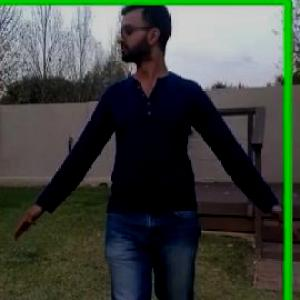land: (21, 3, 299, 299)
